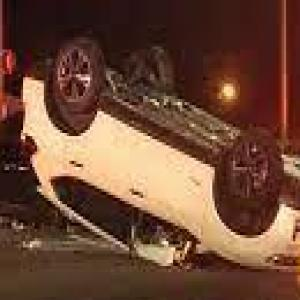fatal: (14, 24, 300, 284)
